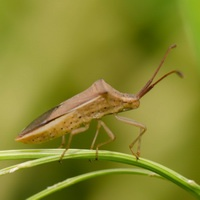insect: (16, 44, 182, 159)
